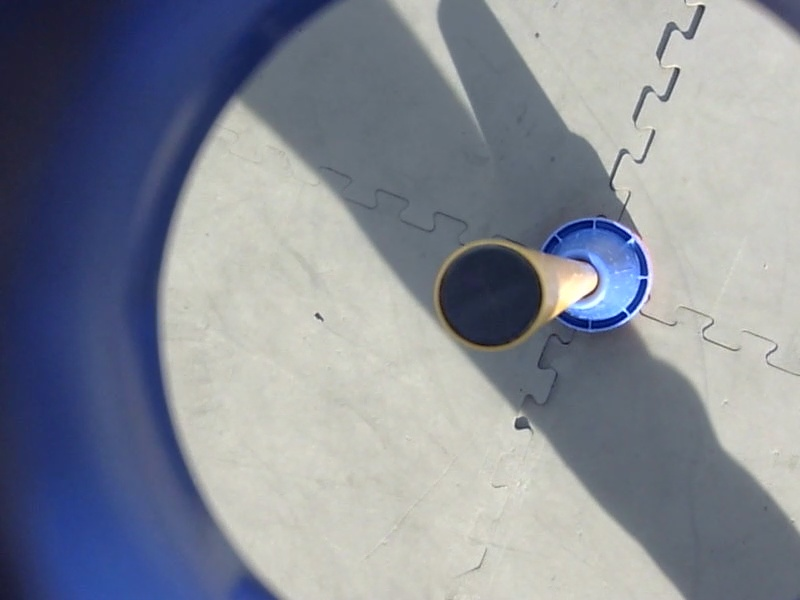tip: (427, 235, 551, 355)
